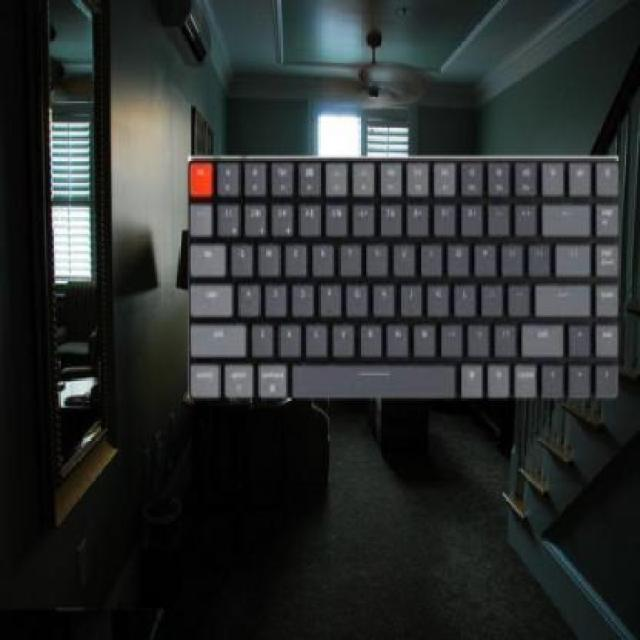keyboard: (177, 137, 633, 413)
